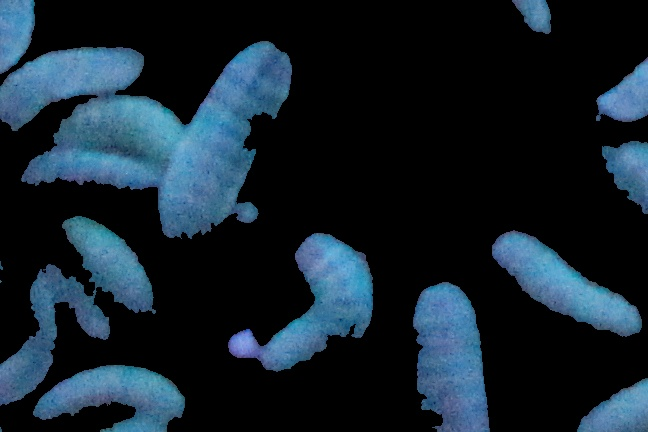larvae: (161, 39, 290, 252), (247, 232, 375, 368), (491, 226, 642, 335), (1, 43, 145, 134), (411, 281, 489, 432), (66, 213, 162, 320), (34, 368, 185, 430), (1, 291, 67, 409), (53, 93, 183, 145), (570, 358, 648, 432), (23, 150, 160, 190), (1, 1, 40, 77)
